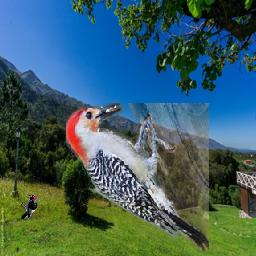Woodpecker: (67, 103, 210, 251), (19, 193, 37, 222)
